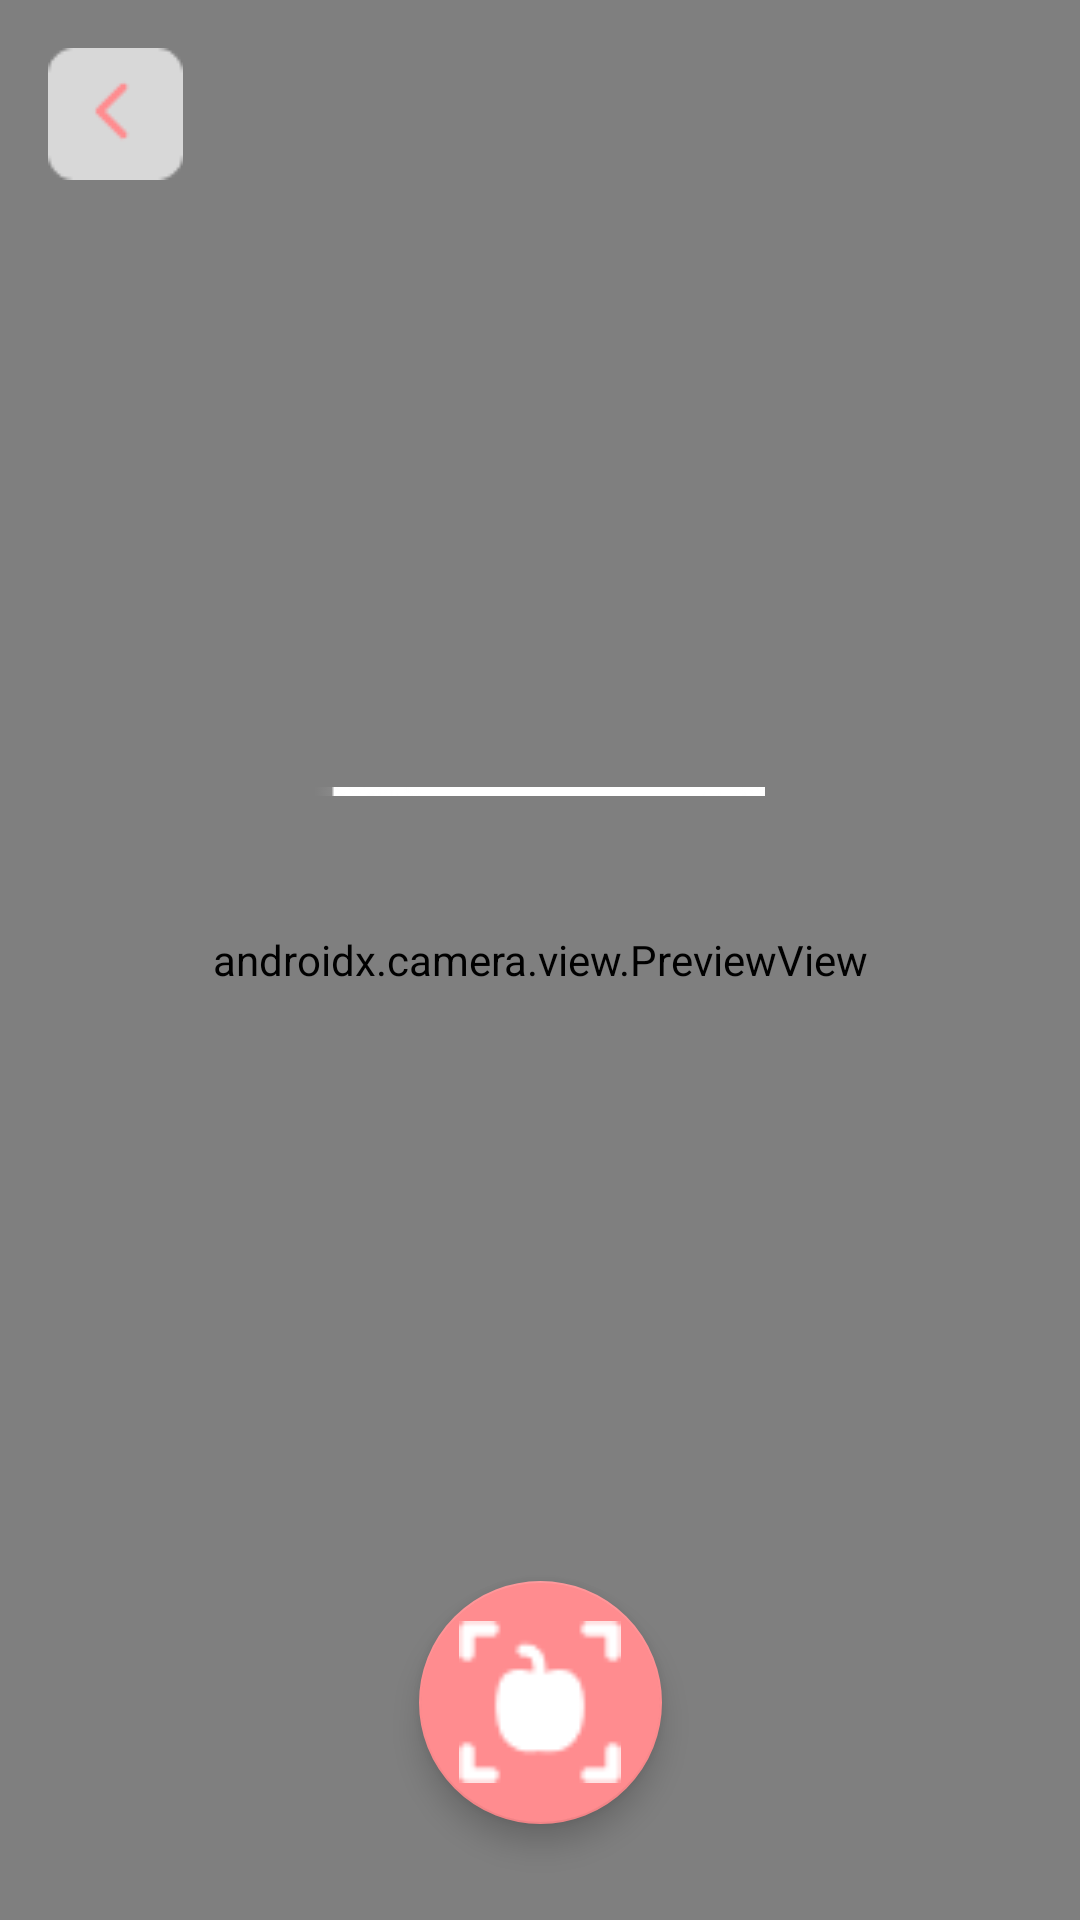

Icon bounding boxes for this 1080x1920 phone screenshot, format (x1, y1, x2, y2):
Back Button: (48, 48, 183, 180)
take a photo: (419, 1581, 662, 1824)
